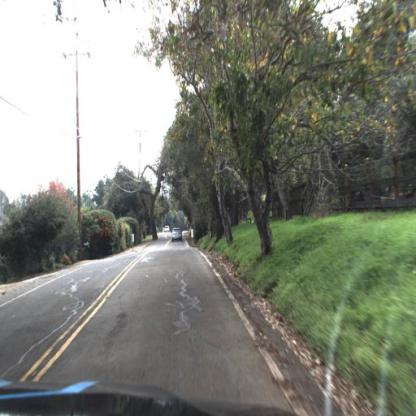car: (170, 223, 186, 244), (164, 222, 172, 236)
